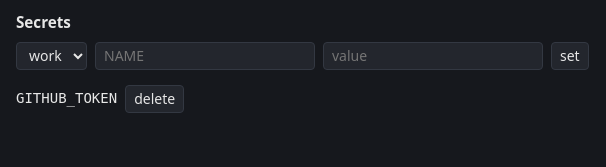
Test case: shows why a write was refused, alongside the refreshed list
Type "NEW_TOKEN" into the field named "secret name" at {"x": 205, "y": 56}, box [95,42,315,70]
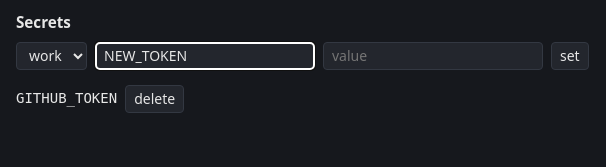
Type "s3cret" into the password field named "secret value" at {"x": 433, "y": 56}, box [323,42,543,70]
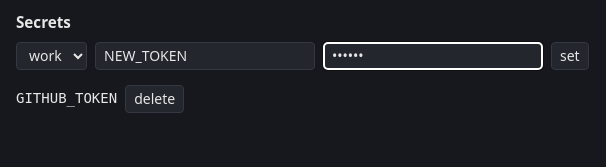
Click the button "set" at {"x": 570, "y": 56}, box [551,42,589,70]
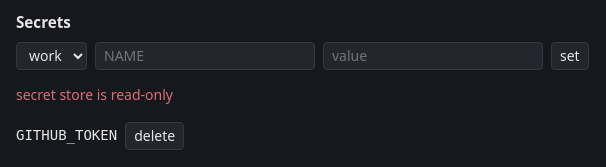
Check: the text "GITHUB_TOKEN" is shown, box [16,125,117,146]
Check: the text "secret store is read-only" is shown, box [16,85,173,104]
